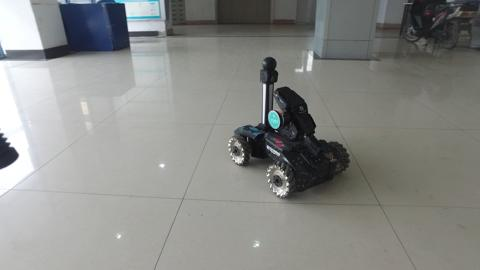chariot: (226, 55, 352, 199)
